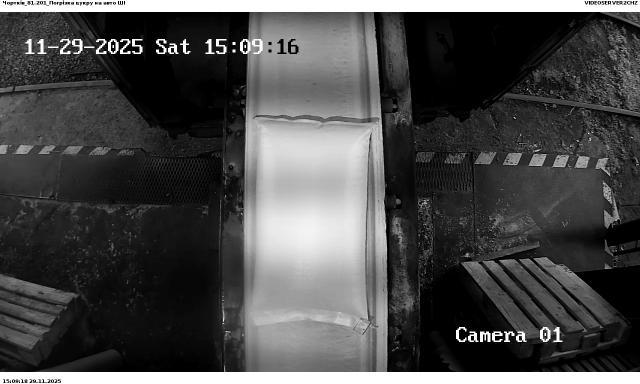bag: (250, 116, 376, 334)
